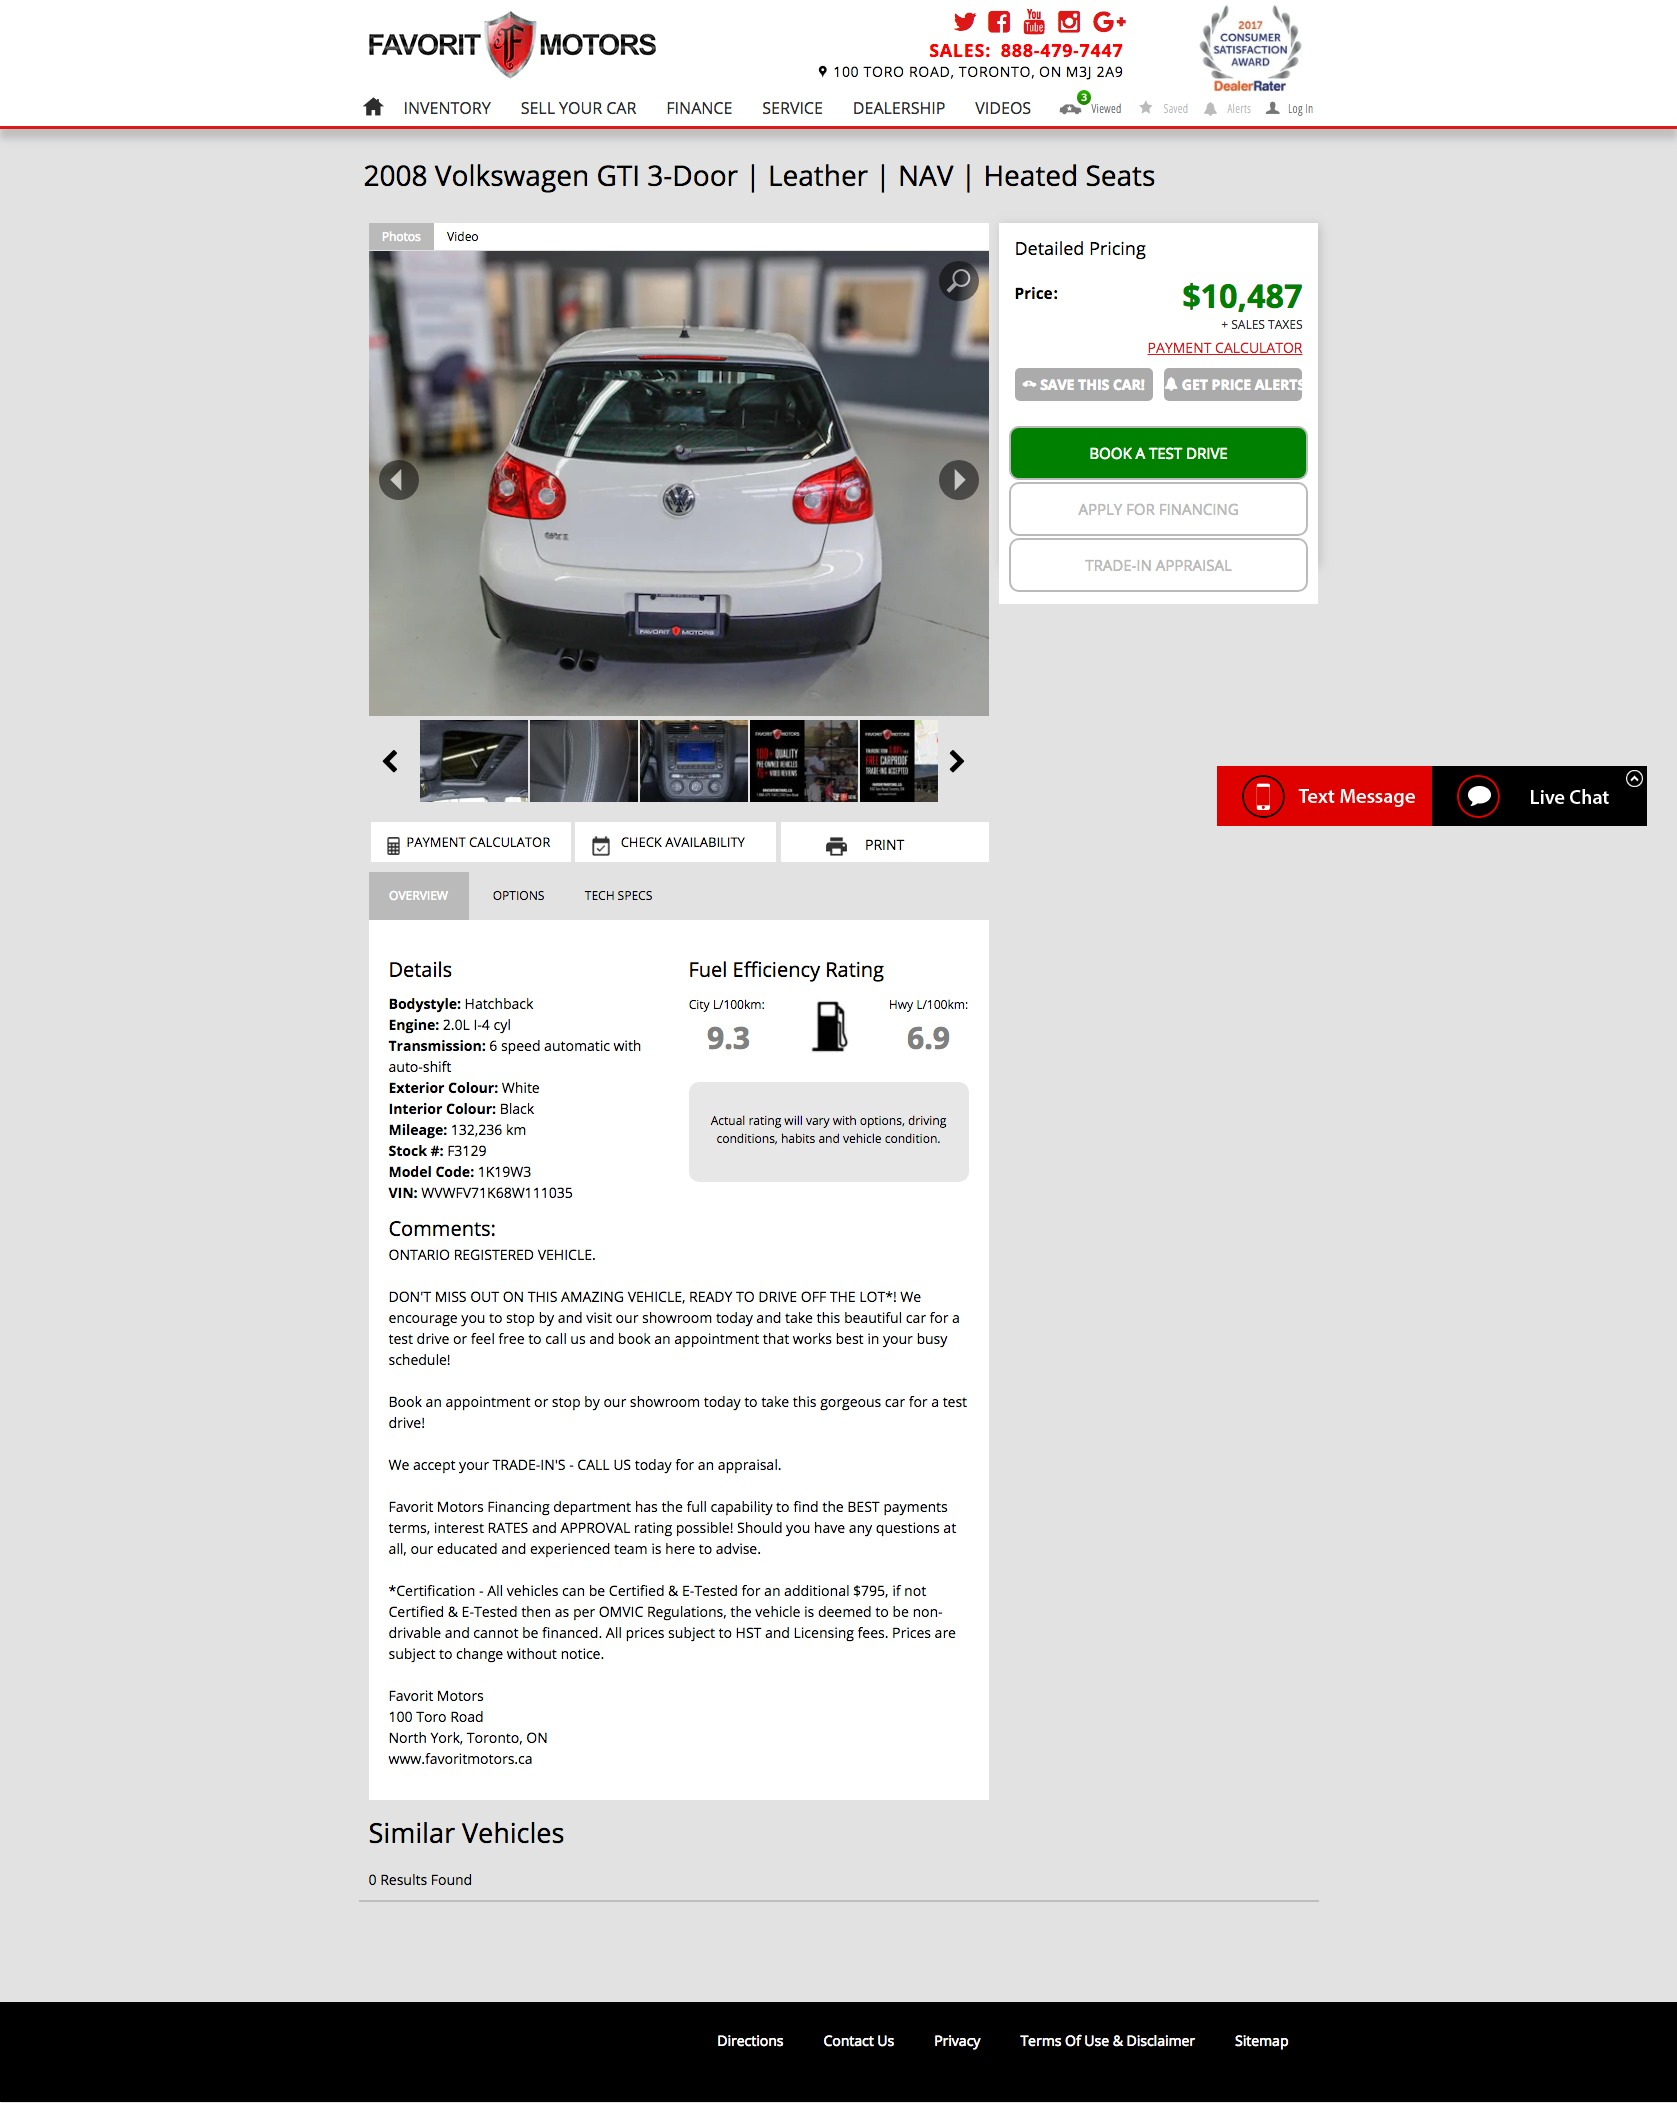car: (950, 749, 965, 773)
